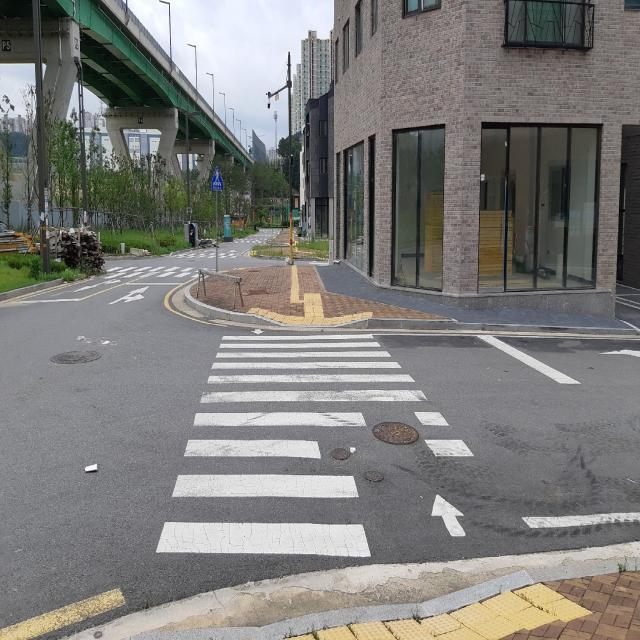횡단보도: (156, 327, 474, 560), (102, 264, 206, 284)
